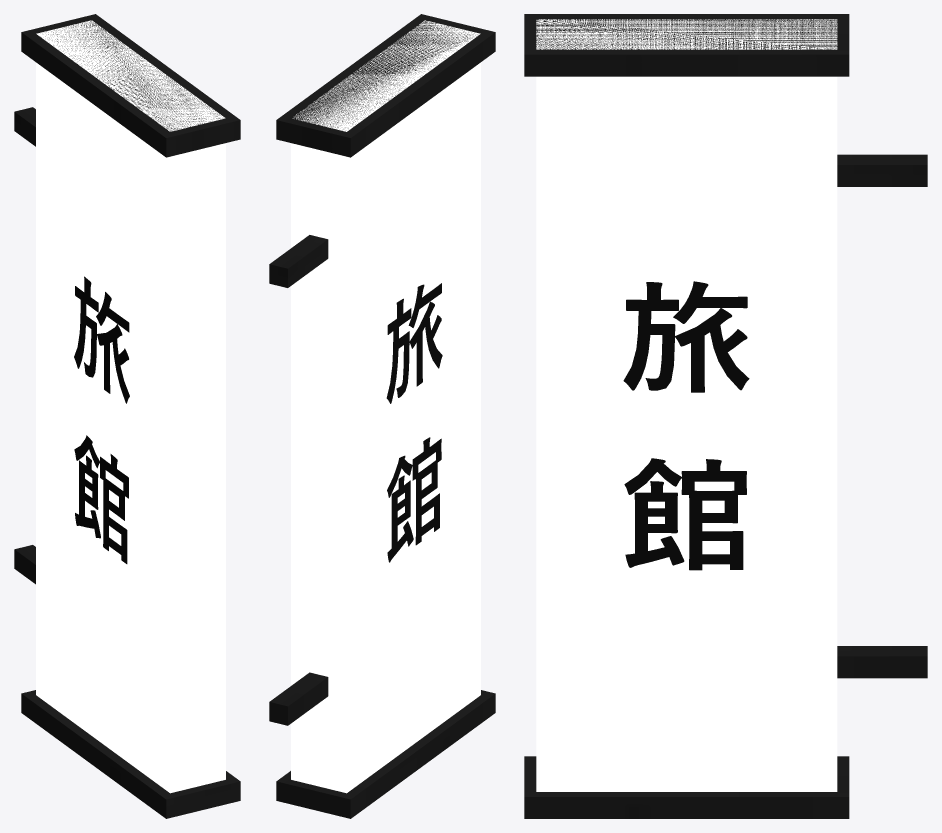
The model's file is sign_vertical_lit.glb.
3 views of the same model, side by side, from view 1: azimuth 30°, elevation 25°; view 2: azimuth 150°, elevation 25°; view 3: azimuth 270°, elevation 25° (orthographic). The views are drawn at different scales.
Visible parts, largest first — view 1: sign_vertical_lit; view 2: sign_vertical_lit; view 3: sign_vertical_lit.
Boxes of the visible parts, box(x1,y1,x2,y2) form: sign_vertical_lit: box(14, 14, 240, 818); sign_vertical_lit: box(269, 14, 495, 818); sign_vertical_lit: box(524, 14, 927, 818).
Size of the model in its own units: 0.16 by 1.4 by 0.67.
Materials: 3 (3 with a texture image).
